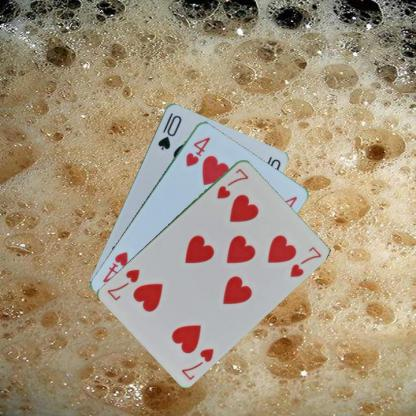10s: (155, 110, 182, 151)
4h: (183, 134, 212, 168)
7h: (178, 345, 215, 381), (214, 165, 250, 200)
